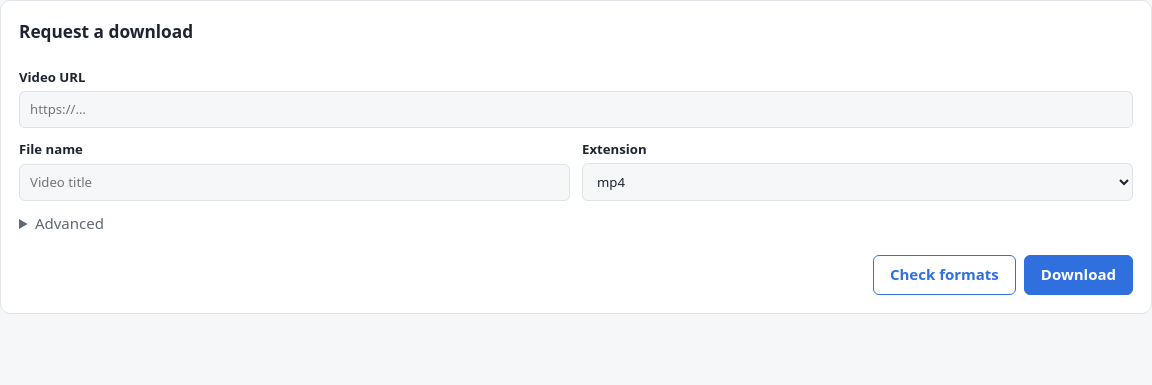
DownloadForm › queues a download for the session
Type "https://example.com/v" into the field labelled "Video URL" at {"x": 576, "y": 110}, box [19, 91, 1133, 128]
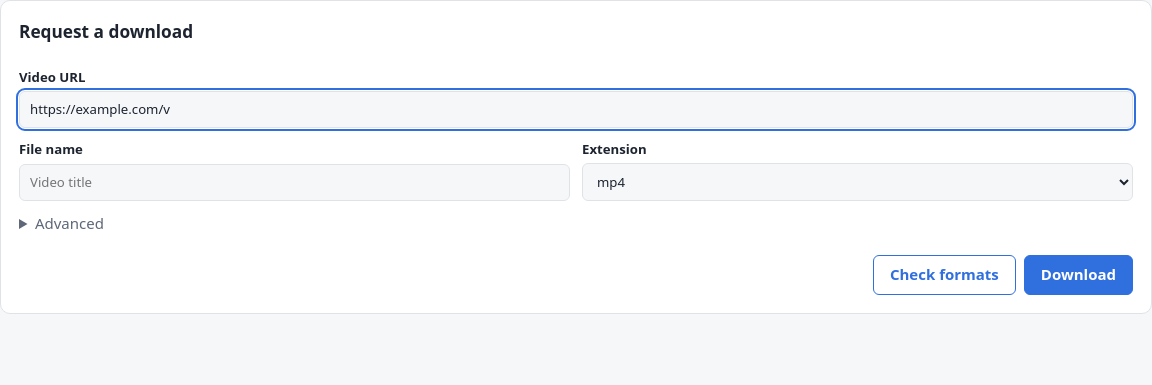
Type "clip" into the field labelled "File name" at {"x": 294, "y": 183}, box [19, 164, 570, 201]
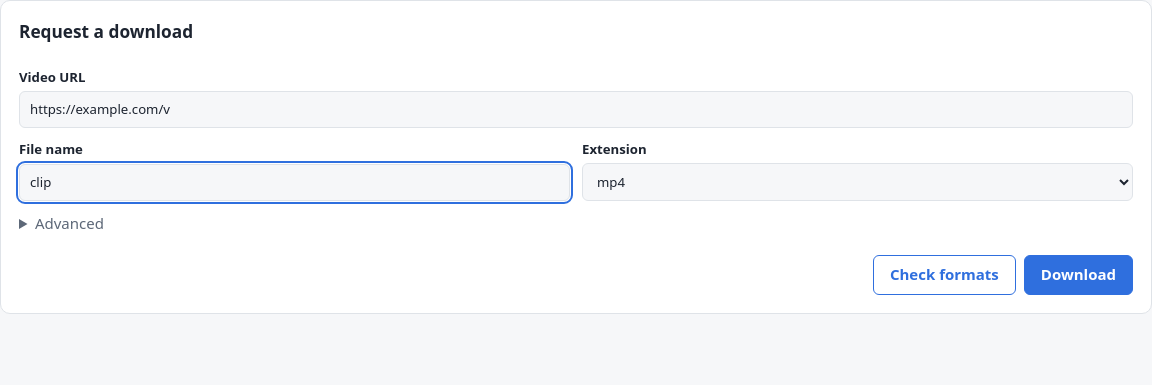
Click the button "Download" at {"x": 1078, "y": 275}, box [1024, 255, 1133, 295]
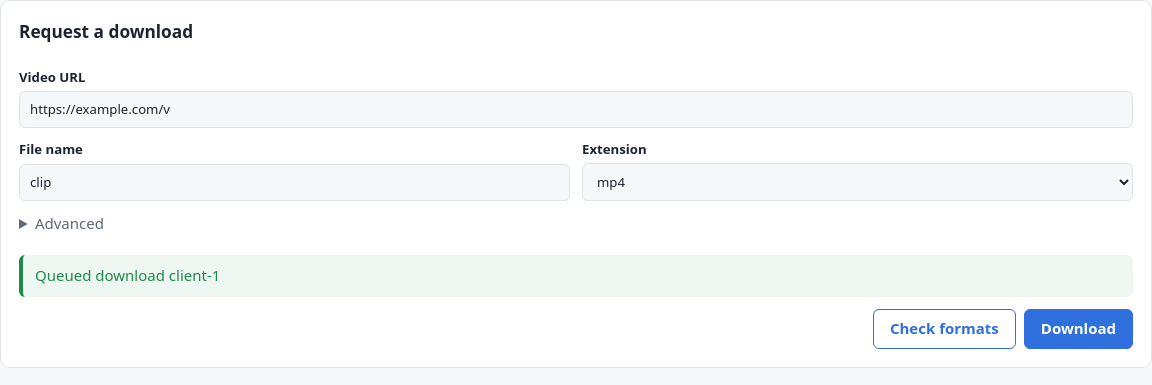
Expected: the text "Queued download client-1" is shown, [19, 255, 1133, 297]
